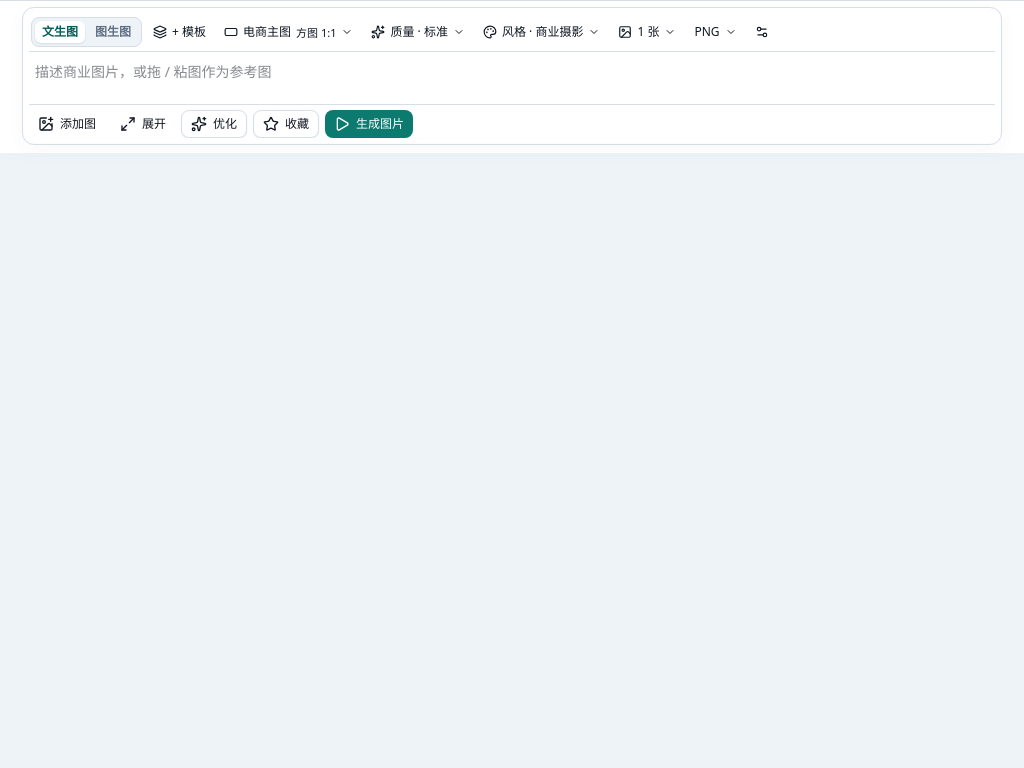
Composer prompt input upgrade › 点「展开编辑器」按钮打开 PromptExpandedDialog
The image size is (1024, 768).
Click the button with test id "composer-expand-trigger": [143, 124] box [111, 110, 175, 138]
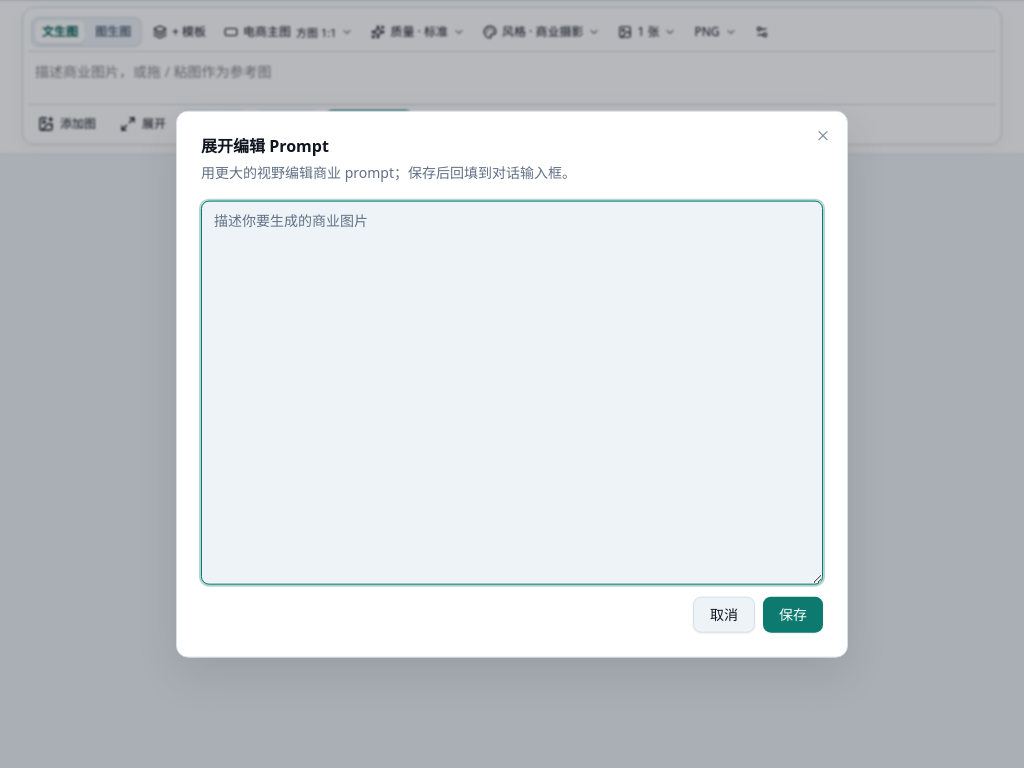
Result: the dialog with test id "prompt-expanded-dialog" is shown at [176, 111, 848, 657]
Result: the text box with test id "prompt-expanded-textarea" is shown at [201, 200, 823, 584]
